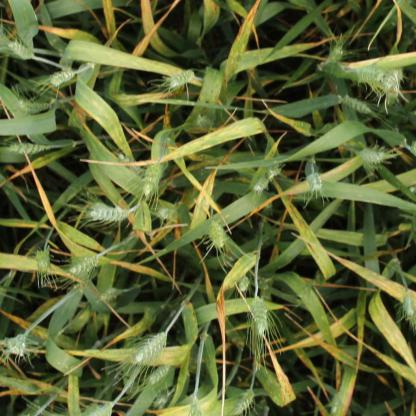whd: (134, 332, 166, 363), (92, 204, 128, 222), (251, 298, 268, 335), (142, 163, 161, 196), (68, 256, 96, 276), (234, 388, 254, 416), (344, 96, 370, 114), (208, 223, 226, 249), (360, 148, 388, 164), (6, 333, 26, 355), (8, 42, 32, 60), (9, 142, 45, 154), (18, 100, 50, 113), (359, 66, 384, 82), (148, 365, 169, 384), (50, 70, 74, 86), (171, 70, 194, 86), (119, 154, 139, 171), (385, 68, 402, 88), (36, 248, 51, 269), (86, 404, 112, 416), (402, 293, 414, 316), (101, 287, 118, 301), (254, 176, 268, 192), (307, 174, 321, 190), (152, 395, 166, 410), (189, 399, 201, 416), (194, 114, 210, 126), (238, 276, 249, 292), (328, 49, 342, 61), (158, 207, 170, 219), (270, 167, 282, 177), (410, 140, 416, 156), (265, 202, 272, 210)
